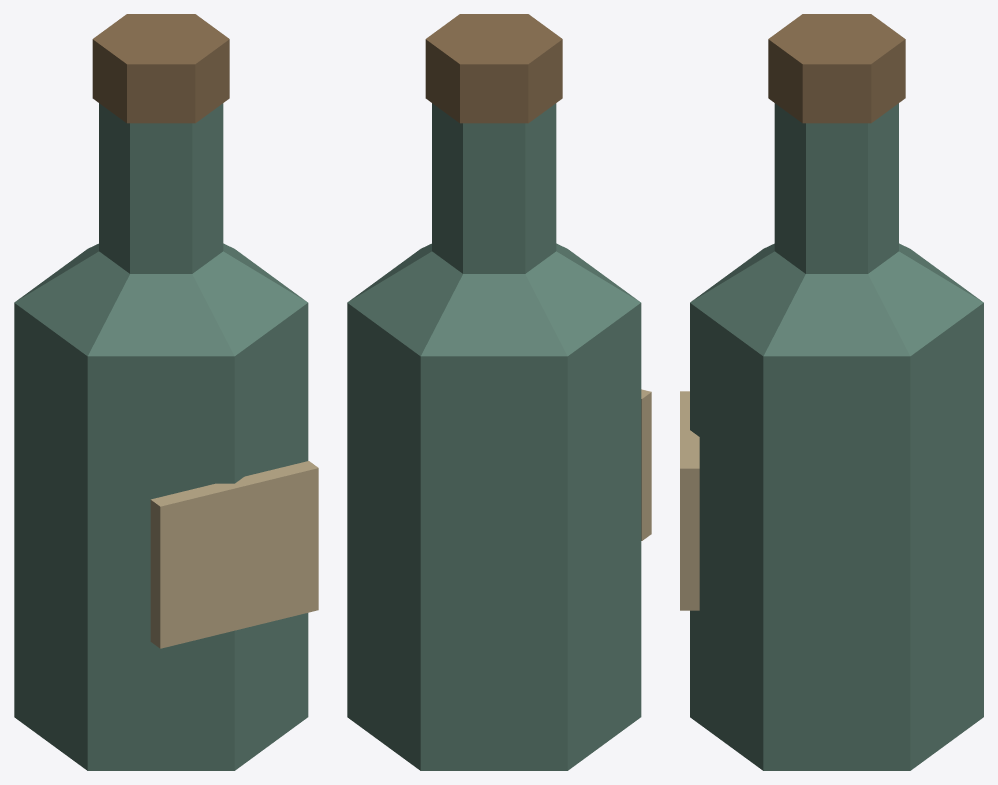
Rendered from bottle.glb.
3 renders of one model, left to right at view 1: azimuth 30°, elevation 25°; view 2: azimuth 150°, elevation 25°; view 3: azimuth 270°, elevation 25°, orthographic.
Visible parts, largest first — view 1: bottle body, plain paper label, bottle shoulder, bottle neck, cork; view 2: bottle body, bottle shoulder, bottle neck, cork, plain paper label; view 3: bottle body, bottle shoulder, bottle neck, cork, plain paper label.
Boxes of the visible parts, x1=… form: bottle body: x1=14, y1=303, x2=308, y2=770; plain paper label: x1=150, y1=461, x2=318, y2=648; bottle shoulder: x1=14, y1=243, x2=307, y2=356; bottle neck: x1=99, y1=103, x2=223, y2=273; cork: x1=92, y1=14, x2=229, y2=123; bottle body: x1=347, y1=303, x2=641, y2=770; bottle shoulder: x1=347, y1=243, x2=640, y2=356; bottle neck: x1=432, y1=103, x2=556, y2=273; cork: x1=425, y1=14, x2=562, y2=123; plain paper label: x1=641, y1=389, x2=651, y2=540; bottle body: x1=690, y1=303, x2=983, y2=770; bottle shoulder: x1=690, y1=243, x2=983, y2=356; bottle neck: x1=774, y1=103, x2=898, y2=273; cork: x1=768, y1=14, x2=905, y2=123; plain paper label: x1=680, y1=391, x2=699, y2=610.
Size of the model in its own units: 0.0779 by 0.229 by 0.093.
